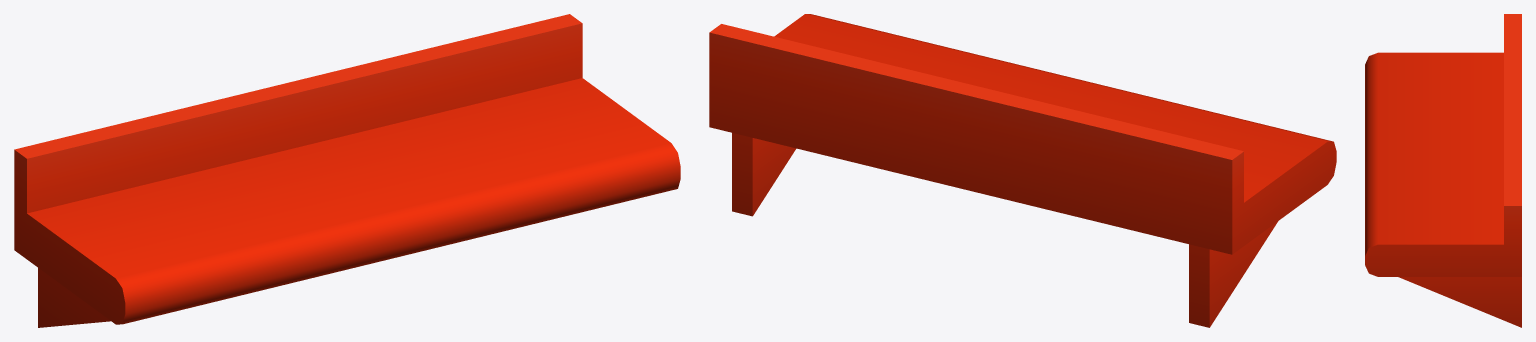
Rendered from Wall_Rack_01_C04.fbx.
3 renders of one model, left to right at view 1: azimuth 30°, elevation 25°; view 2: azimuth 150°, elevation 25°; view 3: azimuth 270°, elevation 25°, orthographic. The views are drawn at different scales.
Parts seen in each view (by area): view 1: Wall_Rack_01_C04; view 2: Wall_Rack_01_C04; view 3: Wall_Rack_01_C04.
Boxes of the visible parts, <box> form: Wall_Rack_01_C04: <box>14,14,680,327</box>; Wall_Rack_01_C04: <box>709,14,1336,327</box>; Wall_Rack_01_C04: <box>1365,14,1521,327</box>.
Bounding box in the file's own units: 100 × 31.7 × 34.58.
